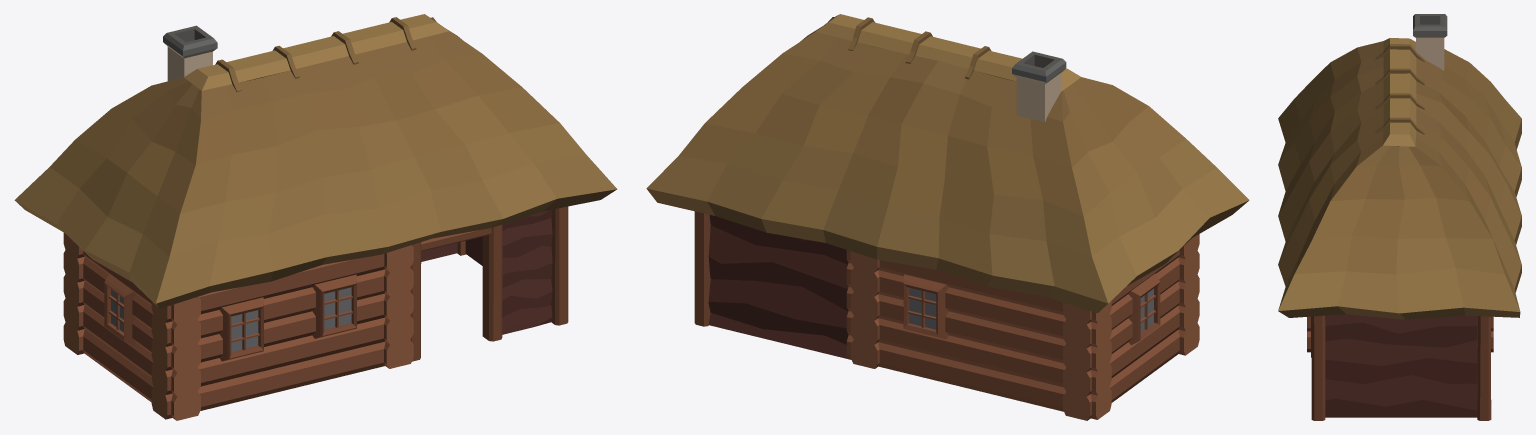
The model's file is log_house_0.fbx.
3 renders of one model, left to right at view 1: azimuth 30°, elevation 25°; view 2: azimuth 150°, elevation 25°; view 3: azimuth 270°, elevation 25°, orthographic. The views are drawn at different scales.
Parts seen in each view (by area): view 1: log_house_0; view 2: log_house_0; view 3: log_house_0.
Boxes of the visible parts, x1,y1,x2,y2 form: log_house_0: (14,14,617,420); log_house_0: (646,14,1249,420); log_house_0: (1278,14,1521,420).
Bounding box in the file's own units: 390 × 252 × 206.
